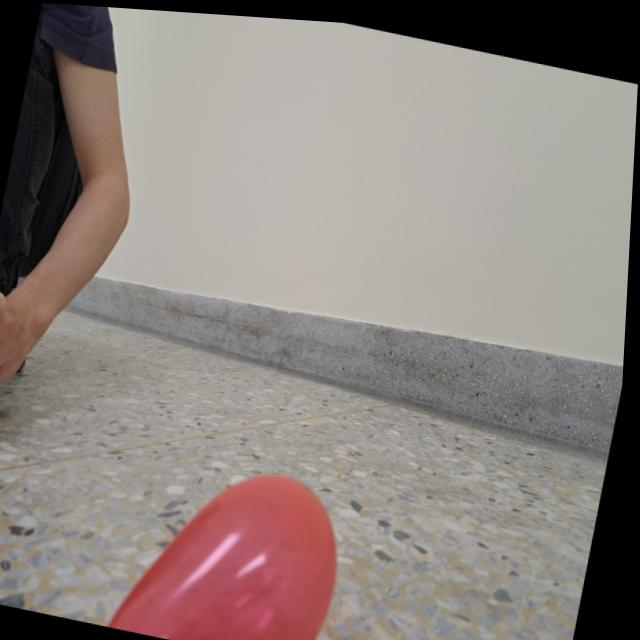red: (108, 440, 361, 640)
